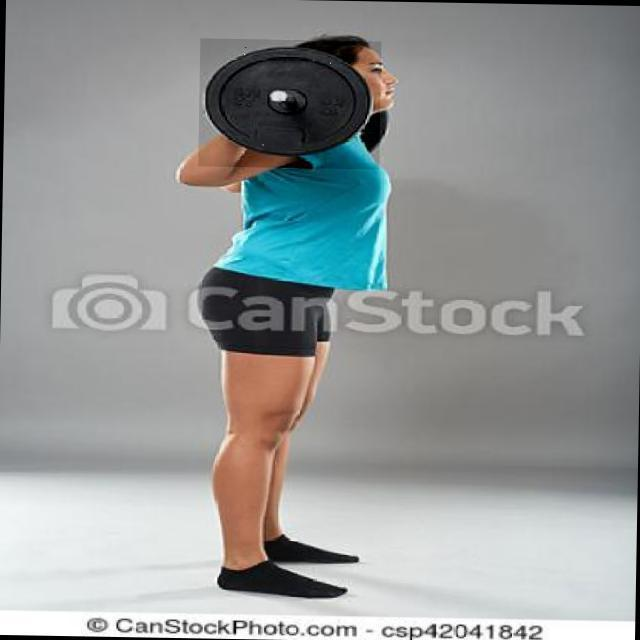barbell: (199, 39, 382, 170)
